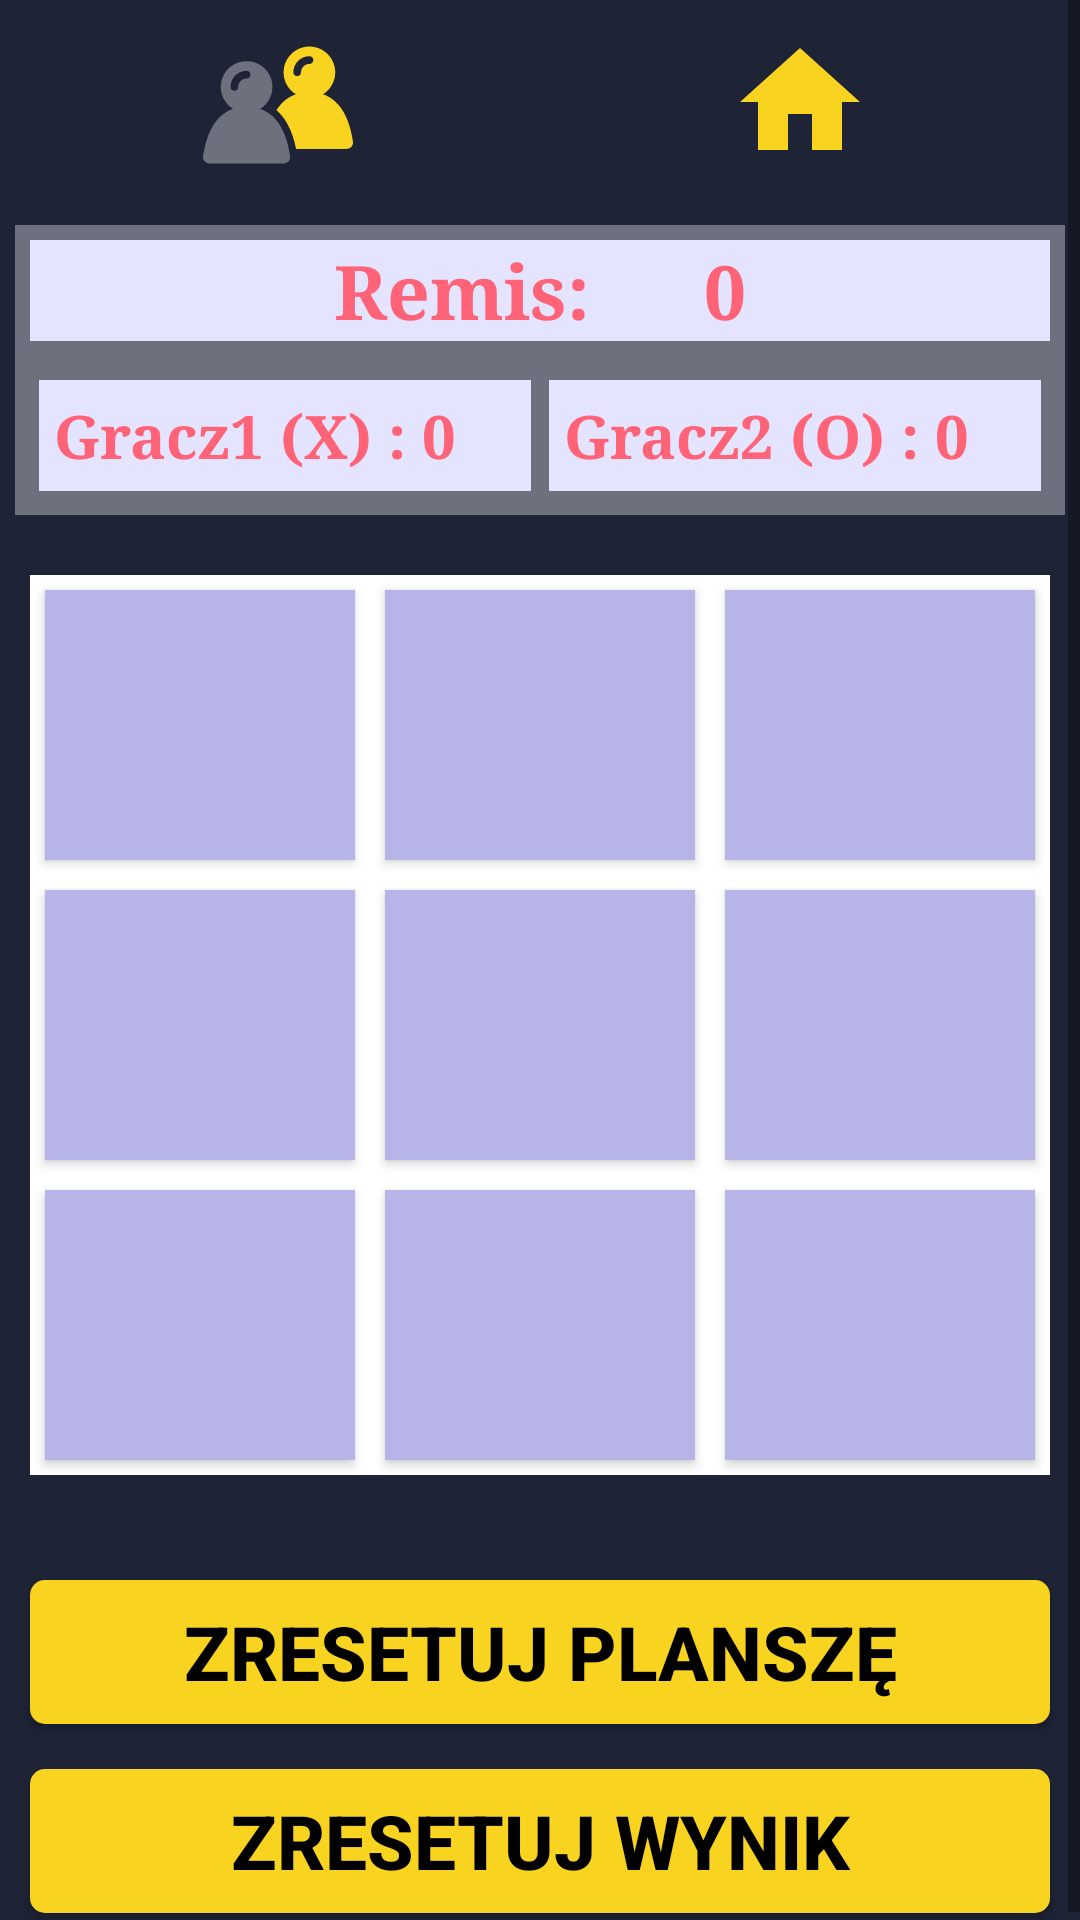

Locate icon controls on the screen. Image size 1080px×1920px, boxes as bbox(x1, y1, x2, y2).
home: bbox(740, 48, 860, 150)
players: bbox(203, 46, 353, 164)
